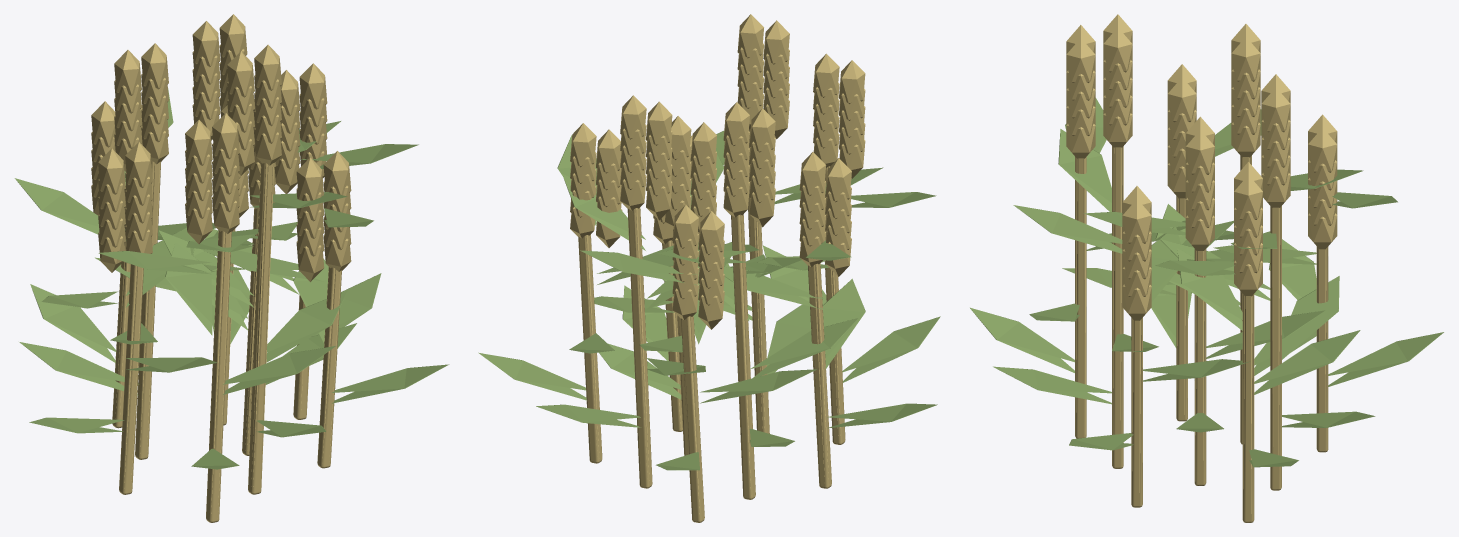
The model's file is SM_CropClump.fbx.
3 views of the same model, side by side, from view 1: azimuth 30°, elevation 25°; view 2: azimuth 150°, elevation 25°; view 3: azimuth 270°, elevation 25° (orthographic). The views are drawn at different scales.
Visible parts, largest first — view 1: SM_CropClump; view 2: SM_CropClump; view 3: SM_CropClump.
Part boxes in pixels (left/top/right/bottom): SM_CropClump: left=14, top=14, right=449, bottom=522; SM_CropClump: left=478, top=14, right=940, bottom=522; SM_CropClump: left=970, top=14, right=1443, bottom=522.
Bounding box in the file's own units: 74.23 × 72.99 × 75.72.
